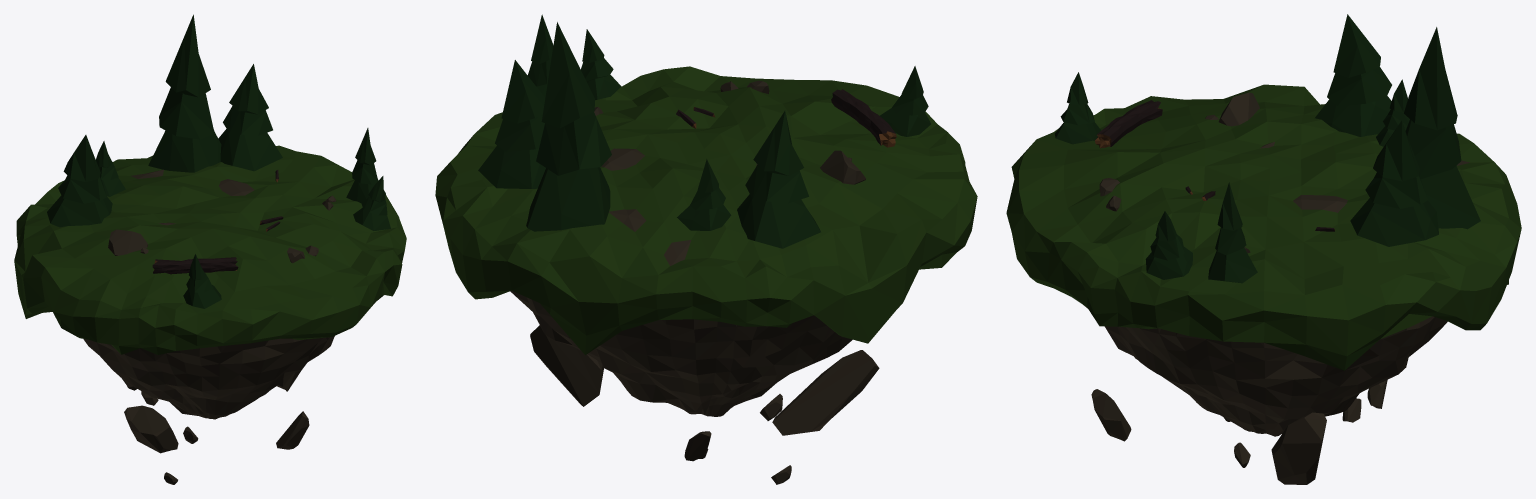
Rendered from forest_more_woods.dae.
3 views of the same model, side by side, from view 1: azimuth 30°, elevation 25°; view 2: azimuth 150°, elevation 25°; view 3: azimuth 270°, elevation 25° (orthographic). The views are drawn at different scales.
Visible parts, largest first — view 1: Plane_001, Plane, Cube_002, Cube_001, Cube_003, Cube_017, Cube_024, Cube_022, Cube_023, Cube_004, Cube_021, Cube_008 (+1 smaller); view 2: Plane_001, Plane, Cube_002, Cube_003, Cube_001, Cube_017, Cube_020, Cube_021, Cube_023, Cube_022, Cube_004, Cube_024 (+2 smaller); view 3: Plane_001, Plane, Cube_002, Cube_001, Cube_003, Cube_020, Cube_024, Cube_022, Cube_023, Cube_004, Cube_014, Cube_021 (+1 smaller).
Boxes of the visible parts, x1,y1,x2,y2 form: Plane_001: (14, 145, 406, 354); Plane: (83, 169, 334, 419); Cube_002: (148, 14, 221, 172); Cube_001: (218, 64, 282, 171); Cube_003: (47, 135, 112, 227); Cube_017: (124, 405, 178, 453); Cube_024: (346, 128, 385, 203); Cube_022: (353, 176, 390, 230); Cube_023: (183, 254, 221, 308); Cube_004: (152, 257, 238, 274); Cube_021: (96, 141, 125, 196); Cube_008: (108, 229, 147, 255); Plane_001: (435, 66, 977, 355); Plane: (510, 148, 852, 416); Cube_002: (526, 22, 611, 231); Cube_003: (737, 110, 820, 248); Cube_001: (478, 60, 545, 188); Cube_017: (772, 350, 879, 435); Cube_020: (530, 325, 603, 406); Cube_021: (677, 159, 731, 230); Cube_023: (879, 66, 930, 136); Cube_022: (580, 29, 621, 100); Cube_004: (831, 89, 896, 147); Cube_024: (527, 14, 553, 97); Plane_001: (1006, 84, 1521, 370); Plane: (1085, 142, 1469, 436); Cube_002: (1404, 27, 1480, 229); Cube_001: (1350, 120, 1438, 246); Cube_003: (1315, 14, 1391, 136); Cube_020: (1271, 412, 1326, 484); Cube_024: (1208, 182, 1257, 283); Cube_022: (1145, 211, 1192, 279); Cube_023: (1055, 72, 1100, 144); Cube_004: (1095, 100, 1162, 148); Cube_014: (1091, 389, 1131, 441); Cube_021: (1376, 79, 1409, 146).
Bounding box in the file's own units: 47.29 × 47.29 × 50.76.
